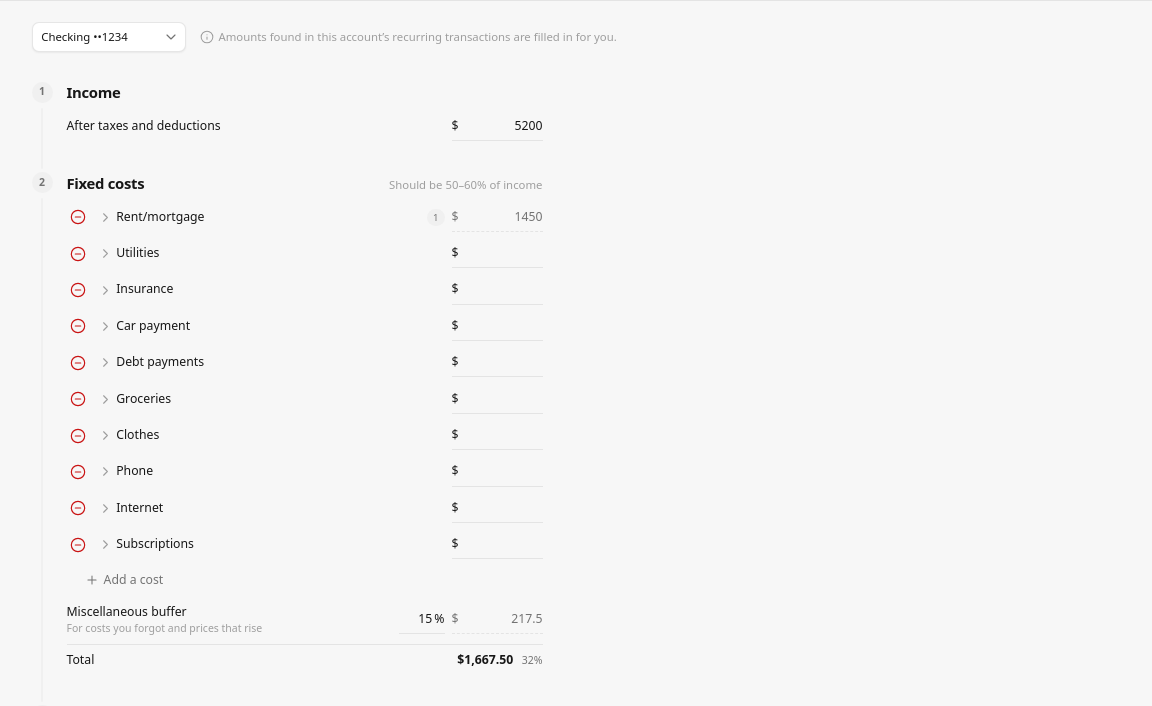
Scenario: spending plan setup › caps the buffer at 100 percent
This screenshot has width=1152, height=706.
Replace the text in the field with id "fixed-cost-buffer" with "250": (416, 619) [399,610,432,628]
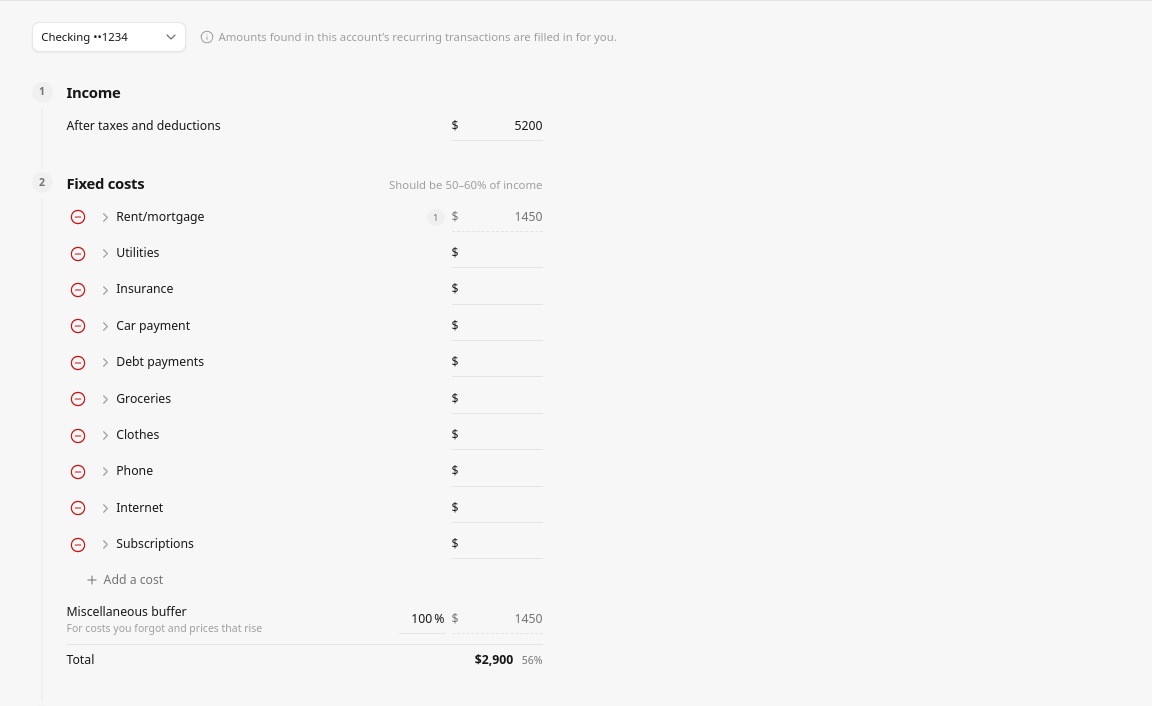
Check: the field with id "fixed-cost-buffer" holds "100", box [399,610,432,628]
Check: the text named "Miscellaneous buffer amount" reads "1450", box [514,610,542,627]
